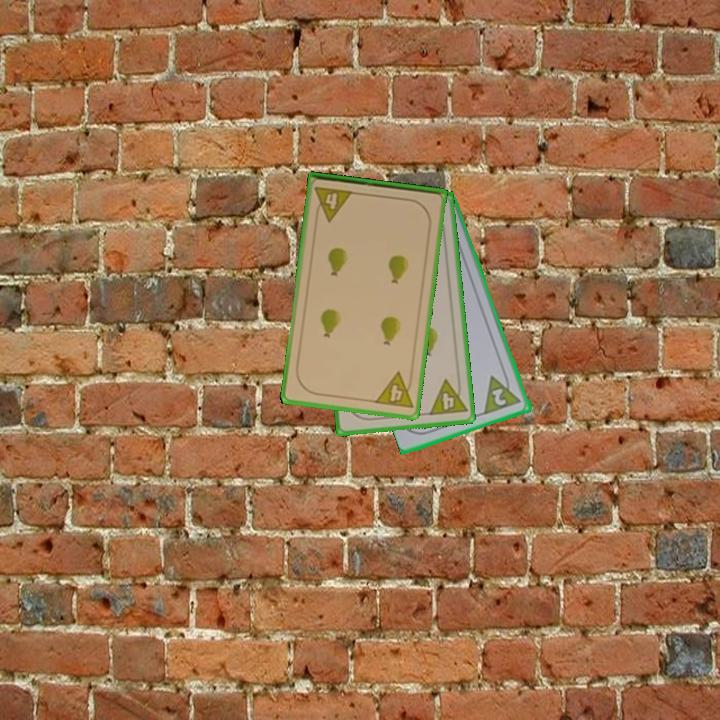2p: (481, 368, 524, 418)
4p: (425, 375, 470, 418), (371, 369, 416, 411), (311, 183, 356, 224)
